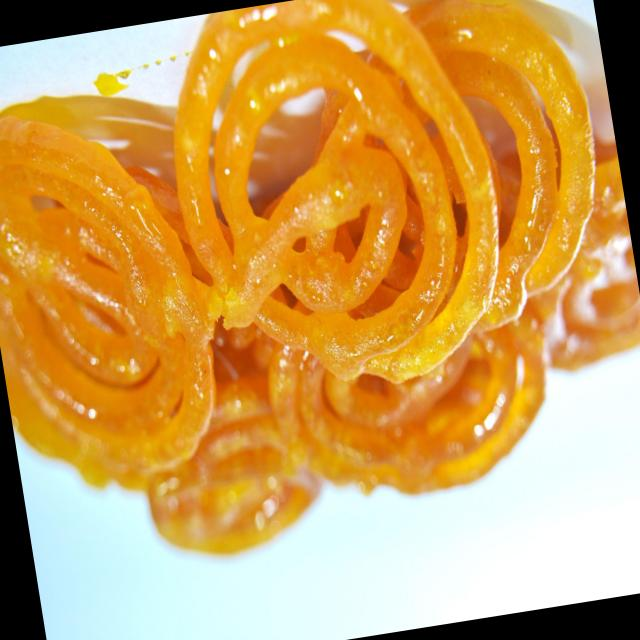jalebi: (0, 0, 640, 592)
